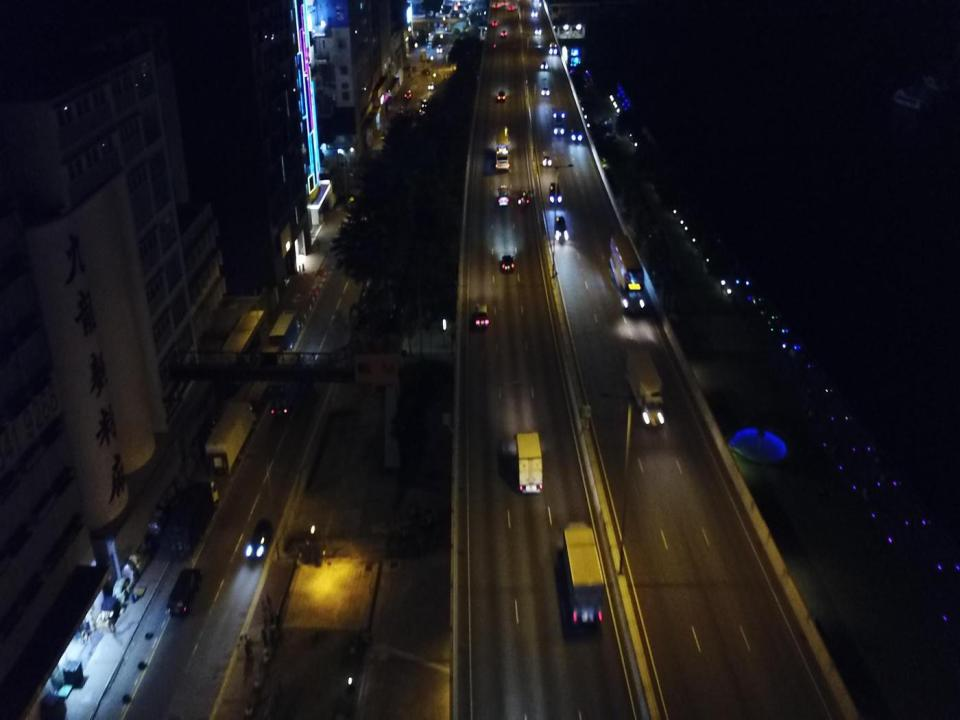bus: (609, 234, 644, 312), (496, 143, 509, 170), (549, 43, 557, 55)
car: (476, 303, 488, 327), (548, 182, 561, 204), (555, 216, 566, 240), (502, 254, 514, 272), (571, 128, 582, 141), (520, 187, 526, 206), (543, 151, 551, 165), (497, 90, 506, 100), (542, 87, 550, 96), (404, 90, 411, 100), (540, 61, 548, 69), (500, 29, 507, 36), (436, 46, 442, 54), (428, 82, 434, 90), (492, 20, 498, 28), (535, 26, 541, 34), (500, 0, 508, 5), (532, 10, 538, 16), (493, 2, 498, 7), (509, 4, 514, 9)
truck: (164, 479, 219, 557), (564, 522, 604, 626), (204, 399, 256, 474), (624, 347, 663, 427), (268, 353, 305, 415), (246, 344, 281, 408), (516, 432, 542, 494), (269, 310, 298, 350), (552, 107, 566, 134)
van: (168, 567, 202, 615), (247, 519, 271, 556), (498, 184, 509, 206)
